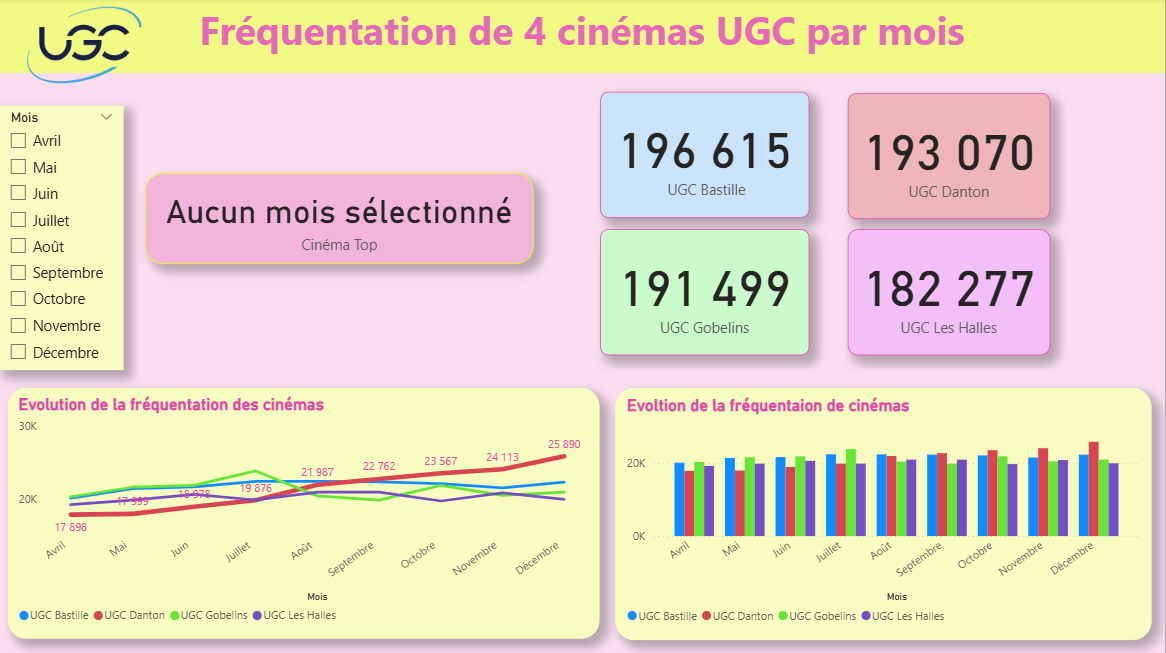

The page's visual inventory and layout, read from the dashboard file:
{"tool":"powerbi","page":{"name":"Vision par mois","canvas":[1280,720],"ordinal":0},"visuals":[{"type":"slicer","fields":{"Values":["TableMois.Mois"]},"box":[0,118.3,136.8,290.8],"z":0},{"type":"lineChart","title":"Evolution de la fréquentation des cinémas","fields":{"Category":["TableMois.Mois"],"Y":["Sum(Feuil1.UGC Bastille)","Sum(Feuil1.UGC Danton)","Sum(Feuil1.UGC Gobelins)","Sum(Feuil1.UGC Les Halles)"]},"box":[10,427.6,650,275.1],"z":1000},{"type":"clusteredColumnChart","title":"Evoltion de la fréquentaion de cinémas","fields":{"Y":["Sum(Feuil1.UGC Bastille)","Sum(Feuil1.UGC Danton)","Sum(Feuil1.UGC Gobelins)","Sum(Feuil1.UGC Les Halles)"],"Category":["TableMois.Mois"]},"box":[677.1,427.6,588.7,276.5],"z":2000},{"type":"card","fields":{"Values":["Sum(Feuil1.UGC Bastille)"]},"box":[660,102.6,229.5,138.3],"z":3000},{"type":"card","fields":{"Values":["Sum(Feuil1.UGC Danton)"]},"box":[932.2,104.1,222.4,138.3],"z":4000},{"type":"card","fields":{"Values":["Sum(Feuil1.UGC Gobelins)"]},"box":[660,253.7,229.5,138.3],"z":5000},{"type":"card","fields":{"Values":["Sum(Feuil1.UGC Les Halles)"]},"box":[932.2,253.7,222.4,138.3],"z":6000},{"type":"card","fields":{"Values":["Feuil1.Cinéma Top Mois (Feuil1)"]},"box":[161.1,192.4,426.2,99.8],"z":7000},{"type":"textbox","box":[0,0,1280,82.7],"z":8000},{"type":"image","box":[25.7,0,135.4,102.6],"z":9000}]}

Visuals, with their boxes in screenshot pixels (x1, y1, x2, y2), scaled from the page's 1280x720 canvas onto the 1166x653 screenshot:
slicer - TableMois.Mois: Rect(0, 107, 125, 371)
"Evolution de la fréquentation des cinémas" lineChart: Rect(9, 388, 601, 637)
"Evoltion de la fréquentaion de cinémas" clusteredColumnChart: Rect(617, 388, 1153, 639)
card - Sum(Feuil1.UGC Bastille): Rect(601, 93, 810, 218)
card - Sum(Feuil1.UGC Danton): Rect(849, 94, 1052, 220)
card - Sum(Feuil1.UGC Gobelins): Rect(601, 230, 810, 356)
card - Sum(Feuil1.UGC Les Halles): Rect(849, 230, 1052, 356)
card - Feuil1.Cinéma Top Mois (Feuil1): Rect(147, 174, 535, 265)
textbox: Rect(0, 0, 1165, 75)
image: Rect(23, 0, 147, 93)
